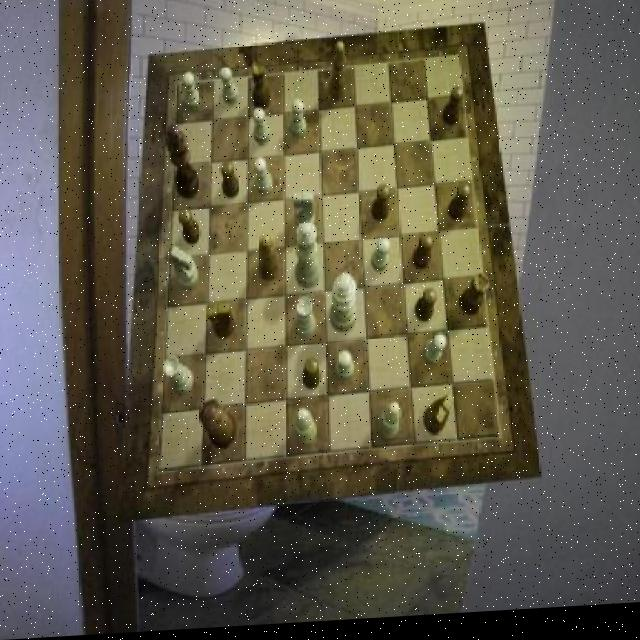bishop: (329, 46, 346, 105), (258, 238, 278, 286)
black-bishop: (166, 125, 198, 202)
black-king: (424, 399, 454, 440), (206, 306, 234, 342)
black-knight: (442, 92, 465, 132), (179, 211, 202, 248), (448, 191, 470, 228), (413, 294, 435, 329), (221, 163, 240, 201), (372, 190, 391, 227), (412, 239, 432, 274), (302, 362, 322, 395)
black-pawn: (199, 401, 237, 452)
black-queen: (460, 279, 489, 322), (252, 63, 270, 115)
black-rook: (378, 408, 402, 447), (294, 411, 317, 451)
white-bishop: (328, 277, 356, 339)
white-king: (171, 248, 198, 293), (292, 195, 316, 237)
white-knight: (423, 339, 446, 373), (218, 69, 238, 108), (369, 243, 389, 278), (289, 103, 306, 144), (253, 111, 271, 149), (184, 74, 201, 113), (255, 160, 272, 198), (334, 355, 354, 384)
white-pawn: (294, 225, 322, 294)
white-queen: (162, 357, 192, 397), (293, 301, 315, 343)
